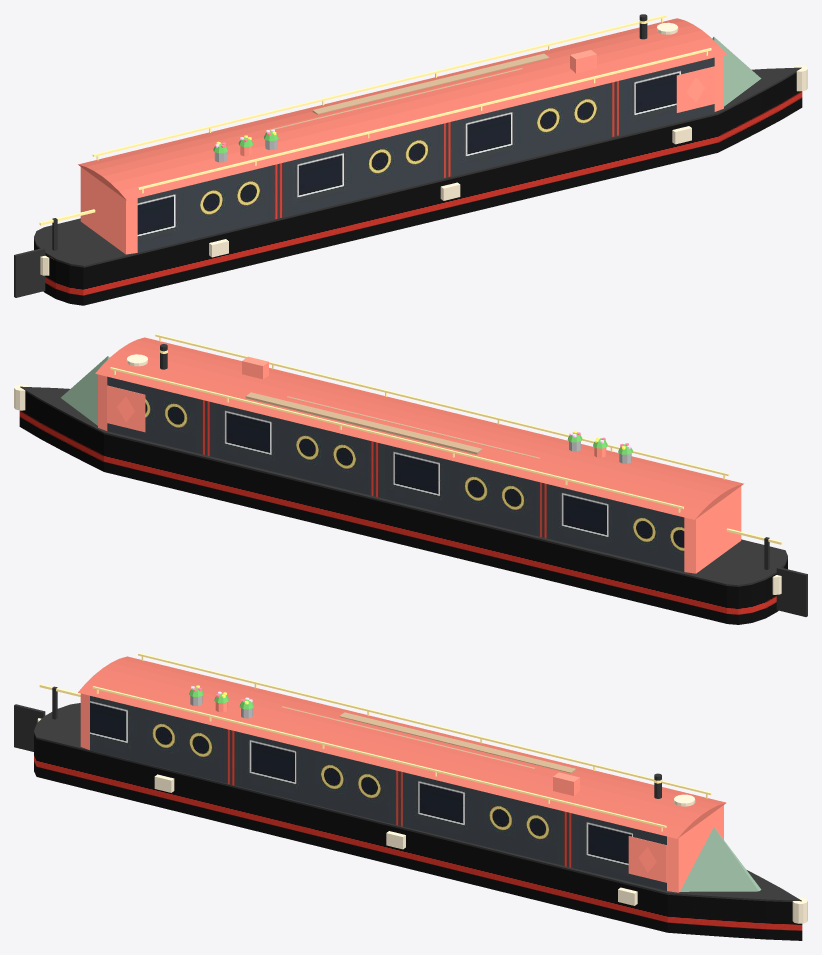
Rendered from boat-4.glb.
3 renders of one model, top to bottom at view 1: azimuth 30°, elevation 25°; view 2: azimuth 150°, elevation 25°; view 3: azimuth 330°, elevation 25°, orthographic.
Visible parts, largest first — view 1: Cabin, Hull, Roof, Gunwale, CabinEndF, Handrail, Plank, RopeCoil, Cratch; view 2: Cabin, Hull, Roof, Gunwale, CabinEndF, Handrail, Plank, Cratch, RopeCoil; view 3: Cabin, Hull, Roof, Gunwale, CabinEndF, Handrail, Cratch, Plank, RopeCoil.
Boxes of the visible parts, x1=… form: Cabin: x1=137, y1=57, x2=714, y2=252; Hull: x1=34, y1=72, x2=802, y2=305; Roof: x1=78, y1=18, x2=726, y2=200; Gunwale: x1=14, y1=14, x2=801, y2=297; CabinEndF: x1=80, y1=50, x2=723, y2=254; Handrail: x1=39, y1=15, x2=711, y2=225; Plank: x1=269, y1=53, x2=549, y2=130; RopeCoil: x1=40, y1=22, x2=807, y2=275; Cratch: x1=712, y1=37, x2=761, y2=106; Cabin: x1=107, y1=376, x2=684, y2=571; Hull: x1=19, y1=392, x2=787, y2=624; Roof: x1=95, y1=337, x2=743, y2=519; Gunwale: x1=20, y1=344, x2=807, y2=616; CabinEndF: x1=98, y1=356, x2=741, y2=573; Handrail: x1=110, y1=334, x2=782, y2=544; Plank: x1=245, y1=392, x2=539, y2=458; Cratch: x1=61, y1=356, x2=109, y2=425; RopeCoil: x1=14, y1=354, x2=781, y2=594; Cabin: x1=90, y1=696, x2=666, y2=890; Hull: x1=34, y1=734, x2=802, y2=940; Roof: x1=78, y1=656, x2=726, y2=838; Gunwale: x1=14, y1=686, x2=801, y2=902; CabinEndF: x1=80, y1=693, x2=723, y2=892; Handrail: x1=39, y1=653, x2=711, y2=831; Cratch: x1=680, y1=827, x2=761, y2=891; Plank: x1=282, y1=706, x2=576, y2=773; RopeCoil: x1=37, y1=718, x2=807, y2=923.
Bounding box in the file's own units: 18.81 × 2.8 × 2.24.
15 materials, 2 textured.
